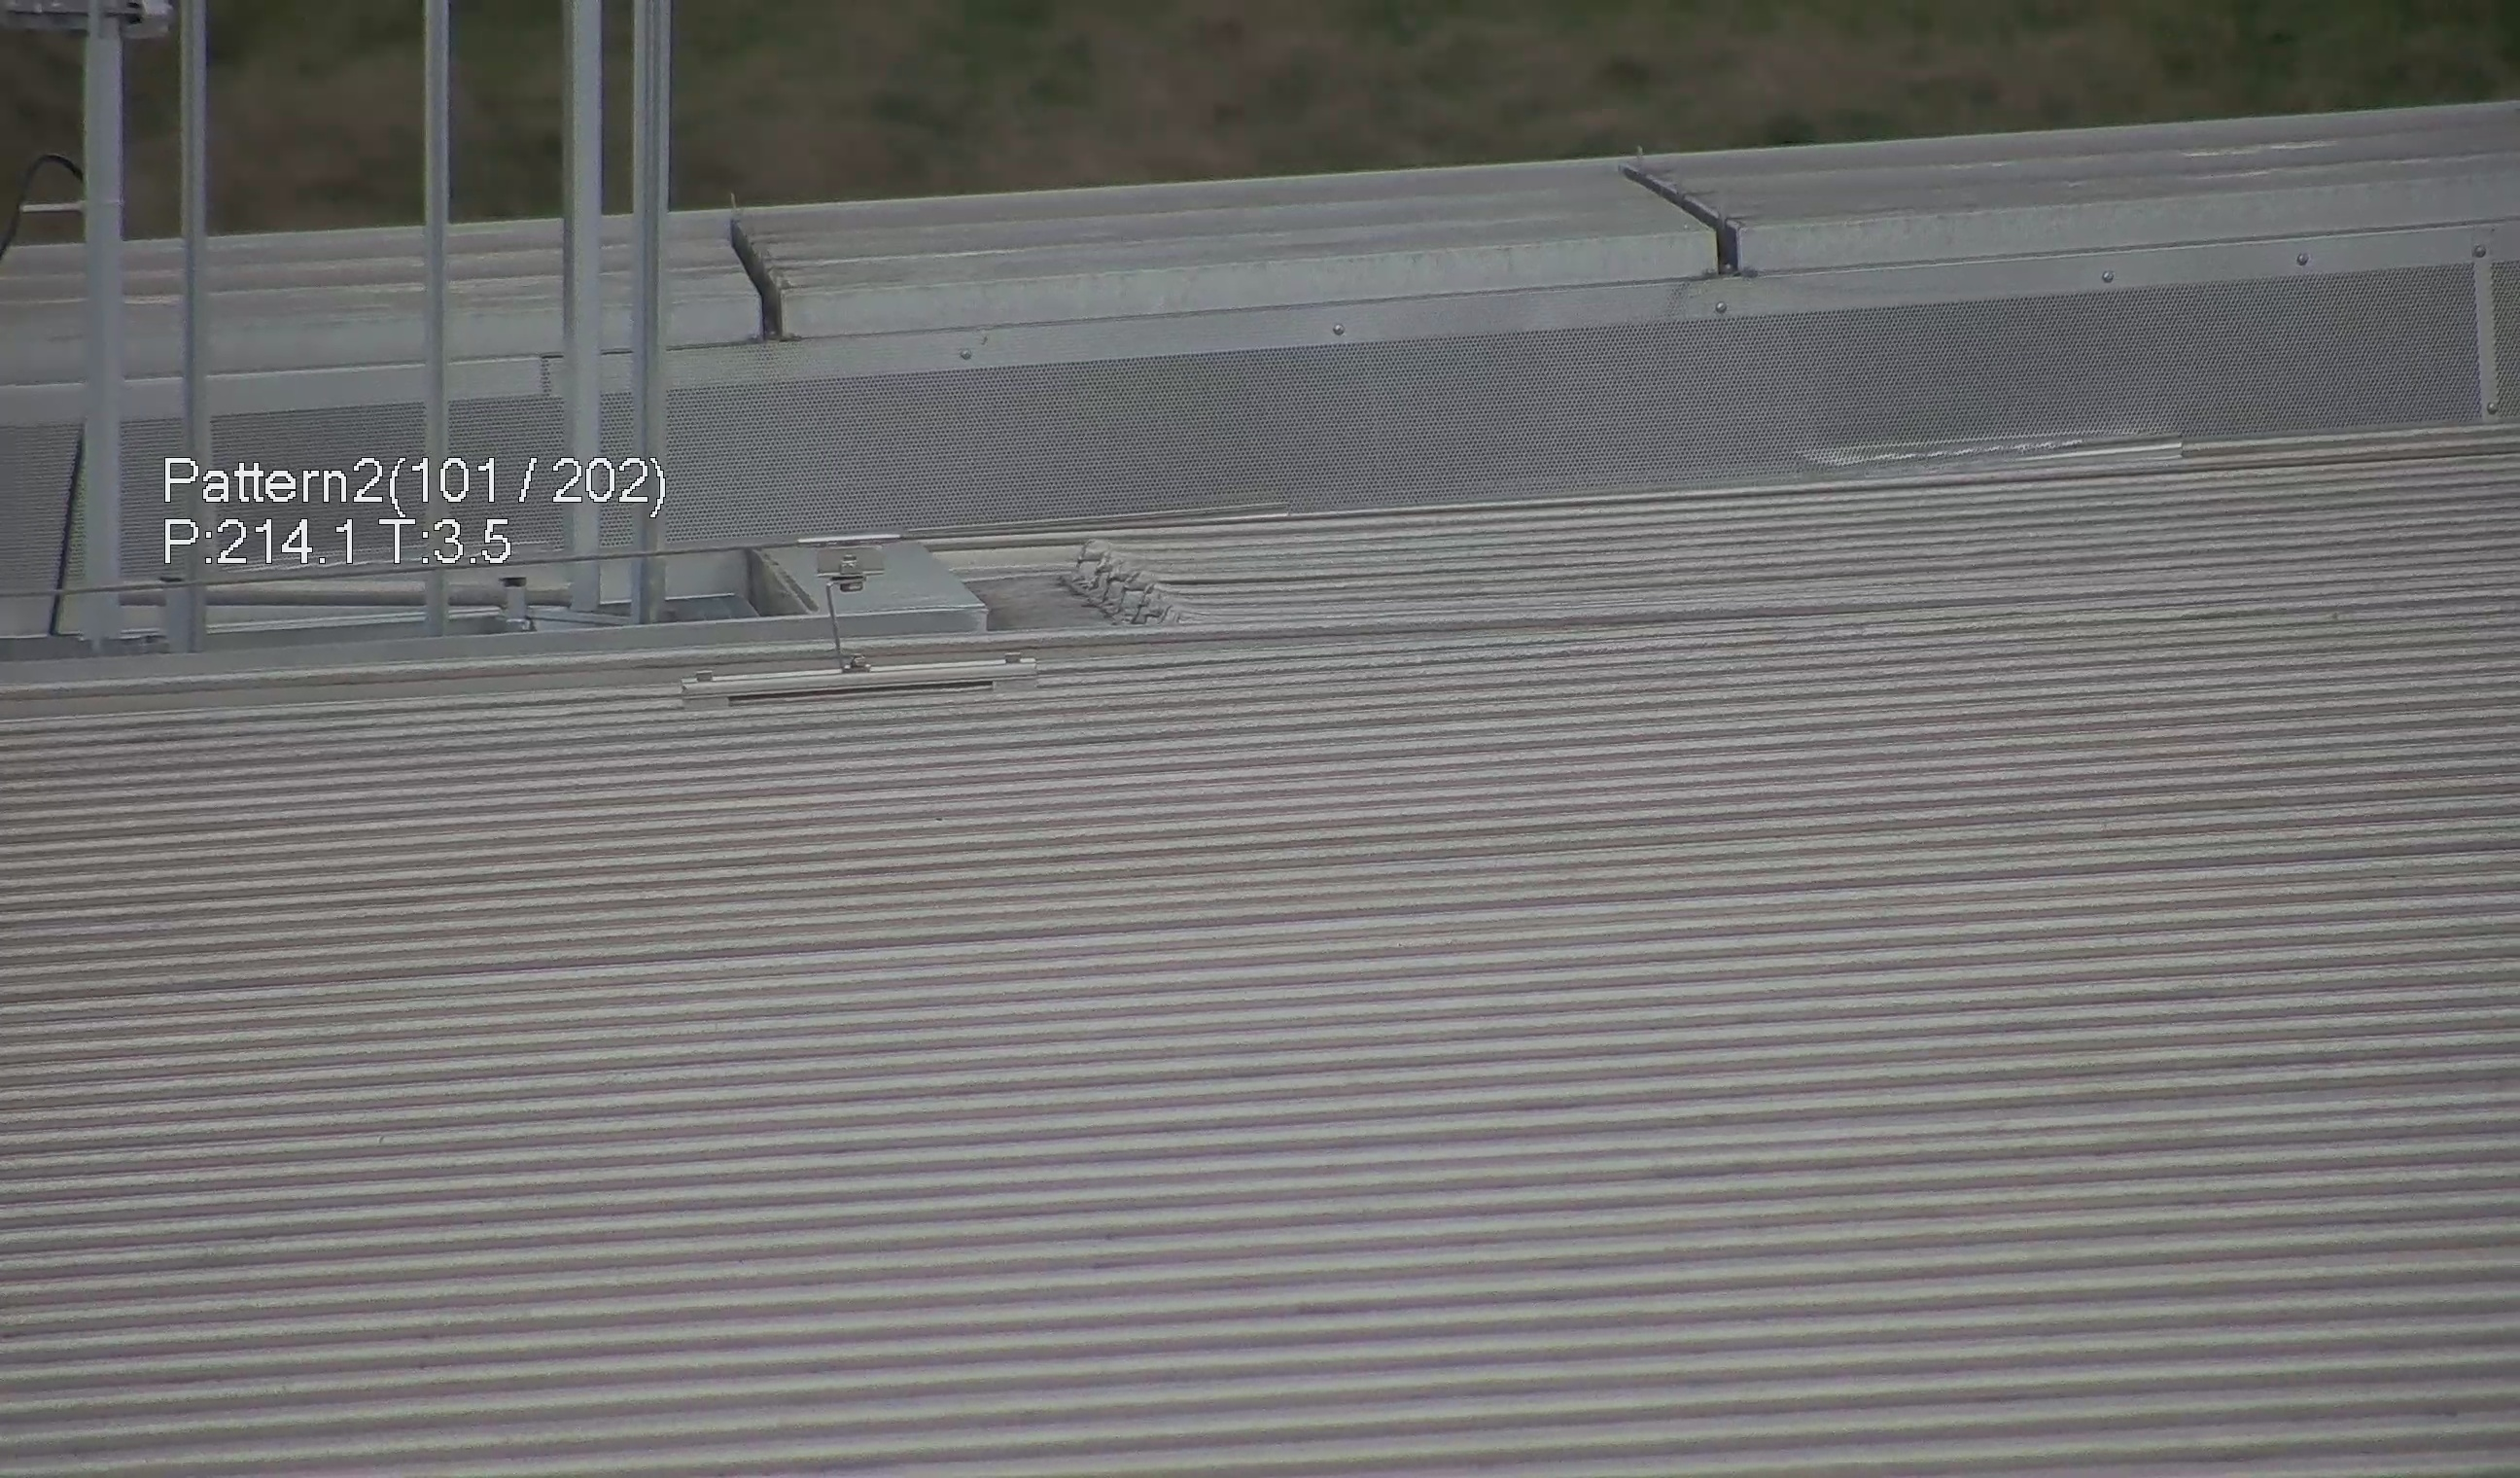Other: (707, 202, 795, 345)
